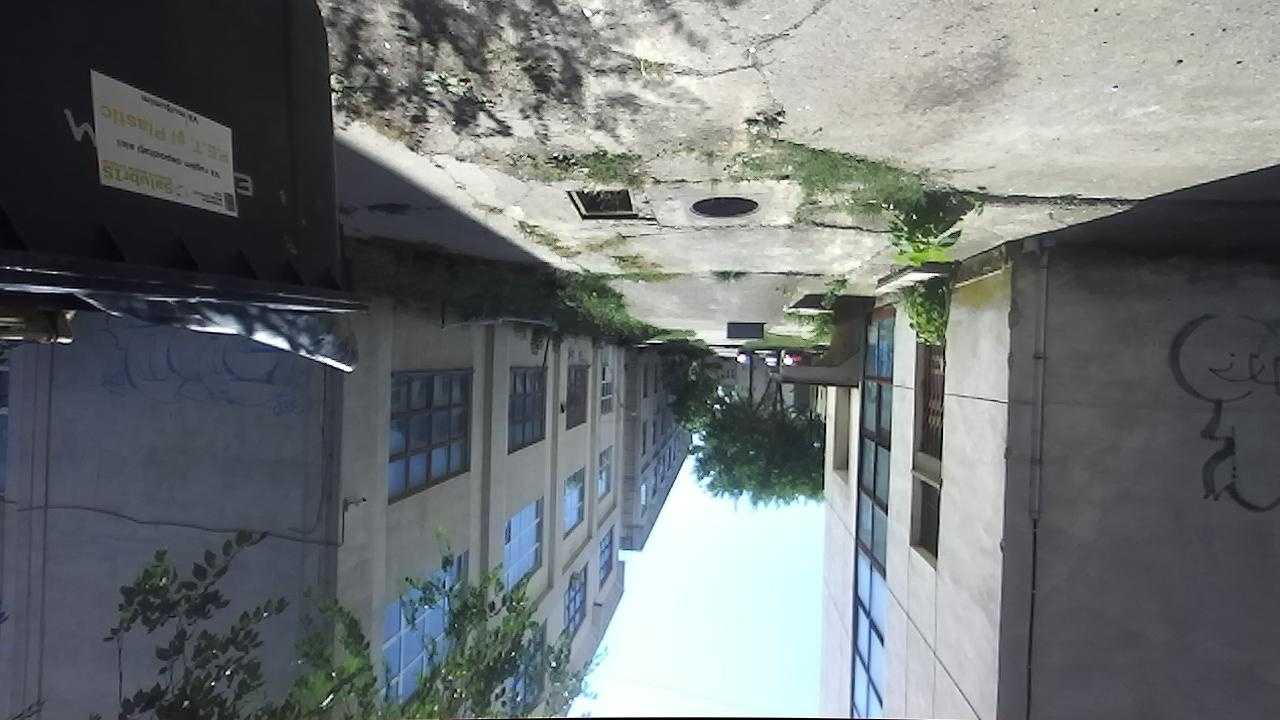drain: (560, 182, 644, 223), (685, 195, 765, 224)
